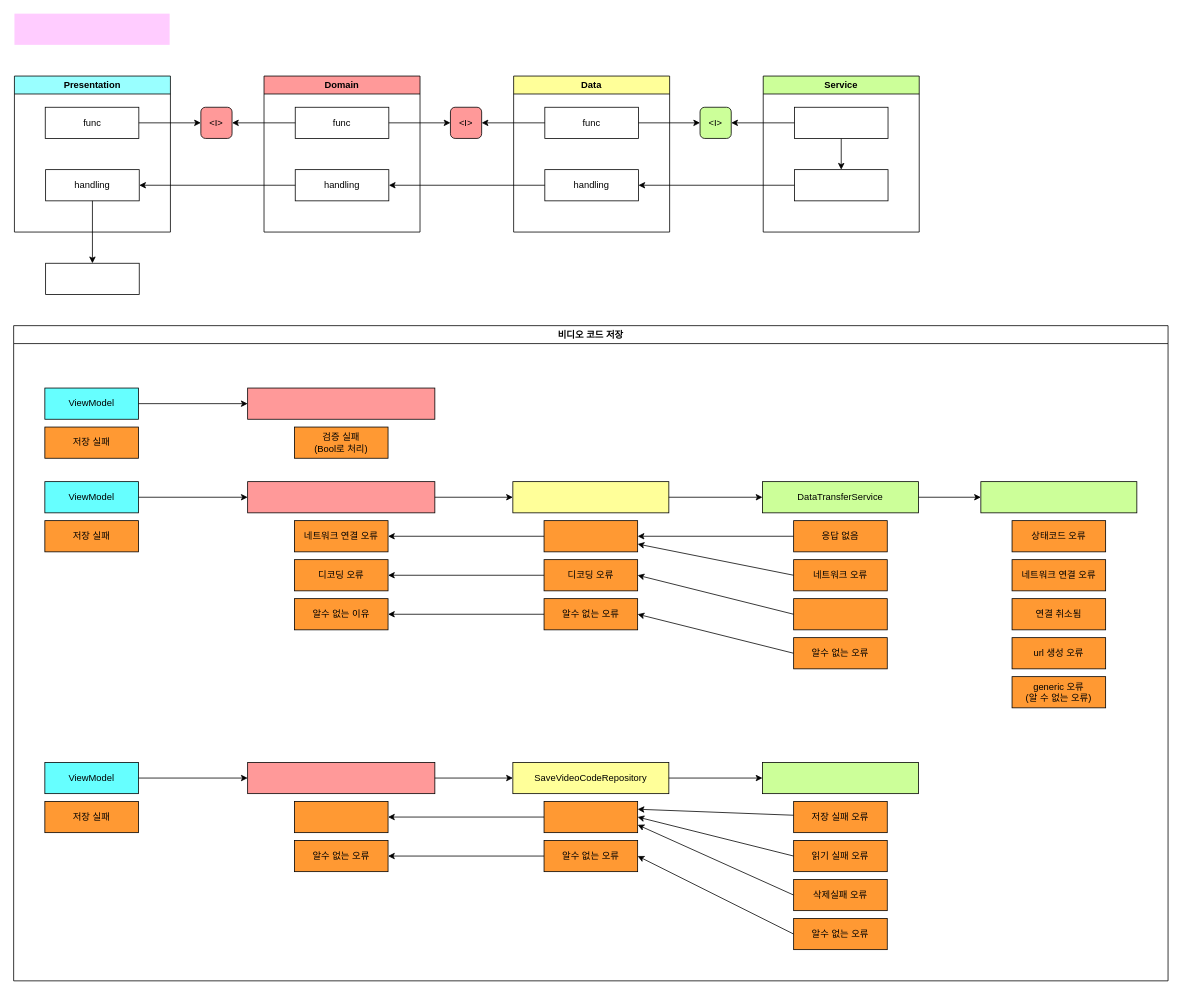
Image size: 1182x994. Some labels were removed from this diagram. Each missing label, with the centre of its shape:
ConvertUrlRepository: point 590,497
ConvertUrlToVideoCodeUseCase: point 341,497
CoreDataStorage: point 840,778
error: point 841,185
NetworkService: point 1058,497
request: point 841,122
SaveVideoCodeUseCase: point 341,778
UI Update (팝업, 알트): point 92,278
UrlValidationUseCase: point 341,403
네트워크 오류, 이유: point 590,536
에러는 도메인에 존재한다.: point 91,28
저장소 오류: point 341,817
저장소 오류, 세부사항: point 590,817
파싱 에러: point 840,614
